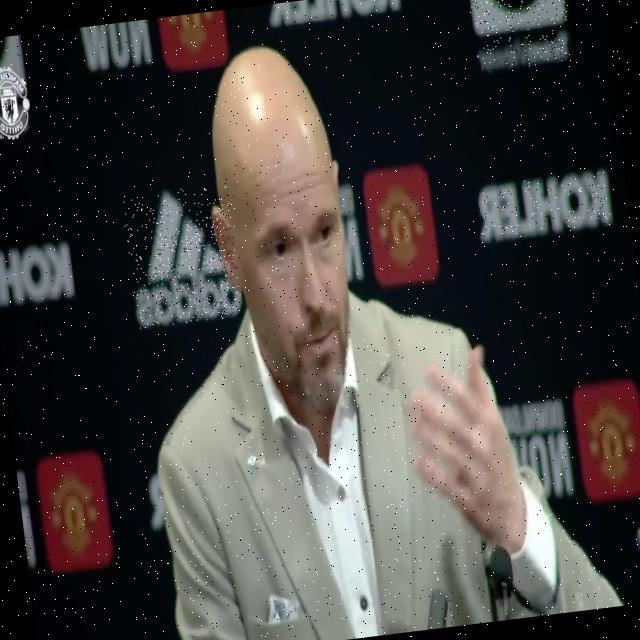Adidas: (120, 183, 243, 329)
Kohler: (475, 170, 613, 241)
TeamViewer: (467, 0, 571, 72)
